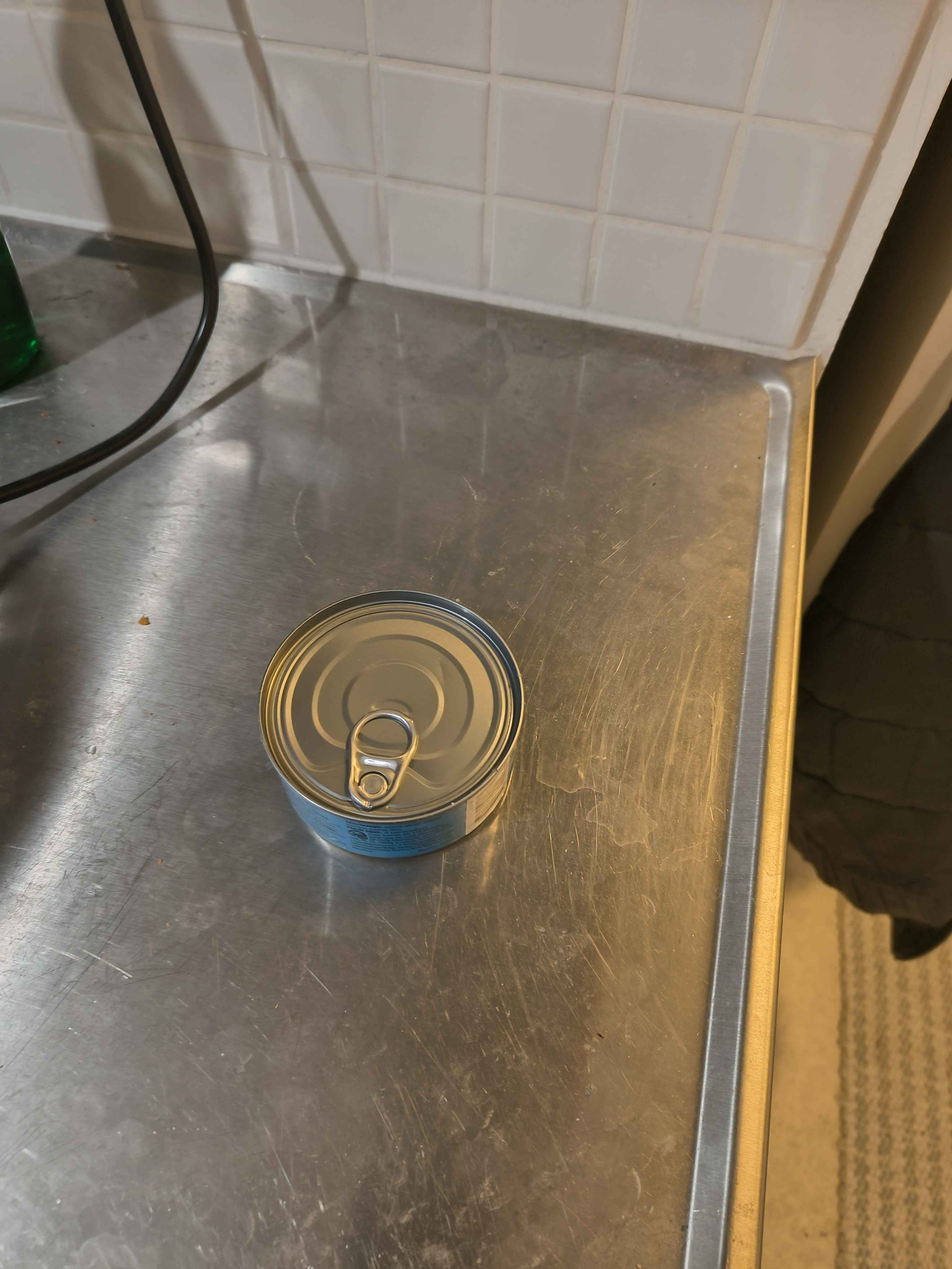Konservburk: (258, 589, 525, 861)
